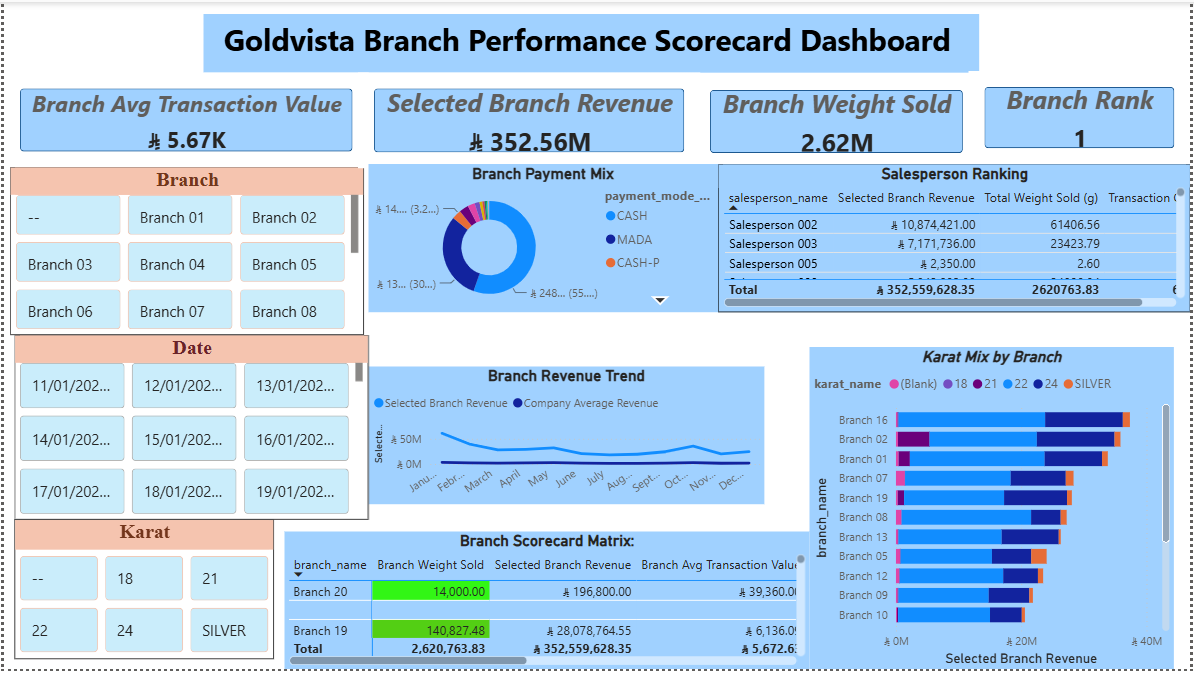

The page's visual inventory and layout, read from the dashboard file:
{"tool":"powerbi","page":{"name":"Branch Performance","canvas":[1280,720],"ordinal":1},"visuals":[{"type":"textbox","box":[215.4,13,837.1,63.1],"z":0},{"type":"barChart","title":"Karat Mix by Branch","fields":{"Category":["public dim_branch.branch_name"],"Series":["public dim_karat.karat_name"],"Y":["Customer First Purchase.Selected Branch Revenue"]},"box":[869.5,372.4,393.5,348.1],"z":1000},{"type":"advancedSlicerVisual","title":"Branch","fields":{"Values":["public dim_branch.branch_name"]},"box":[6.5,178.1,382.1,181.4],"z":2000},{"type":"advancedSlicerVisual","title":"Karat","fields":{"Values":["public dim_karat.karat_name"]},"box":[11.3,558.6,280.1,150.6],"z":3000},{"type":"cardVisual","fields":{"Data":["Customer First Purchase.Selected Branch Revenue"]},"box":[382.1,76.1,369.2,103.6],"z":4000},{"type":"cardVisual","fields":{"Data":["Customer First Purchase.Branch Rank"]},"box":[1041.2,74.5,239.6,100.4],"z":5000},{"type":"cardVisual","fields":{"Data":["Customer First Purchase.Branch Weight Sold"]},"box":[744.8,77.7,307.7,102],"z":6000},{"type":"cardVisual","fields":{"Data":["Customer First Purchase.Branch Avg Transaction Value"]},"box":[0,76.1,393.5,102],"z":7000},{"type":"pivotTable","title":"Branch Scorecard Matrix:","fields":{"Rows":["public dim_branch.branch_name"],"Values":["Customer First Purchase.Branch Weight Sold","Customer First Purchase.Selected Branch Revenue","Customer First Purchase.Branch Avg Transaction Value","Customer Purchase Distribution.Transaction Count","Date.Return Rate %","Customer First Purchase.Making Charge Revenue","Customer First Purchase.MoM Revenue Growth"]},"box":[302.8,571.6,566.7,149],"z":8000},{"type":"lineChart","title":"Branch Revenue Trend","fields":{"Y":["Customer First Purchase.Selected Branch Revenue","Customer First Purchase.Company Average Revenue"],"Category":["Date.Date.Variation.Date Hierarchy.Month"]},"box":[393.5,393.5,427.5,149],"z":9000},{"type":"tableEx","title":"Salesperson Ranking","fields":{"Values":["public dim_salesperson.salesperson_name","Customer First Purchase.Selected Branch Revenue","Date.Total Weight Sold (g)","Customer Purchase Distribution.Transaction Count"]},"box":[770.8,174.9,510.1,160.3],"z":10000},{"type":"donutChart","title":"Branch Payment Mix","fields":{"Category":["public dim_payment_mode.payment_mode_name"],"Y":["Customer First Purchase.Selected Branch Revenue"]},"box":[393.5,174.9,377,160],"z":11000},{"type":"advancedSlicerVisual","fields":{"Values":["Date.Date"]},"box":[11.3,359.5,382.1,199.2],"z":12000}]}

Visuals, with their boxes in screenshot pixels (x1, y1, x2, y2), scaled from the page's 1280x720 canvas onto the 1194x673 screenshot:
textbox: <region>201, 12, 982, 71</region>
"Karat Mix by Branch" barChart: <region>811, 348, 1178, 672</region>
"Branch" advancedSlicerVisual: <region>6, 166, 362, 336</region>
"Karat" advancedSlicerVisual: <region>11, 522, 272, 663</region>
cardVisual - Customer First Purchase.Selected Branch Revenue: <region>356, 71, 701, 168</region>
cardVisual - Customer First Purchase.Branch Rank: <region>971, 70, 1193, 163</region>
cardVisual - Customer First Purchase.Branch Weight Sold: <region>695, 73, 982, 168</region>
cardVisual - Customer First Purchase.Branch Avg Transaction Value: <region>0, 71, 367, 166</region>
"Branch Scorecard Matrix:" pivotTable: <region>282, 534, 811, 672</region>
"Branch Revenue Trend" lineChart: <region>367, 368, 766, 507</region>
"Salesperson Ranking" tableEx: <region>719, 163, 1193, 313</region>
"Branch Payment Mix" donutChart: <region>367, 163, 719, 313</region>
advancedSlicerVisual - Date.Date: <region>11, 336, 367, 522</region>
